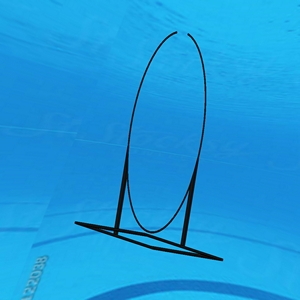circle: (73, 30, 233, 267)
